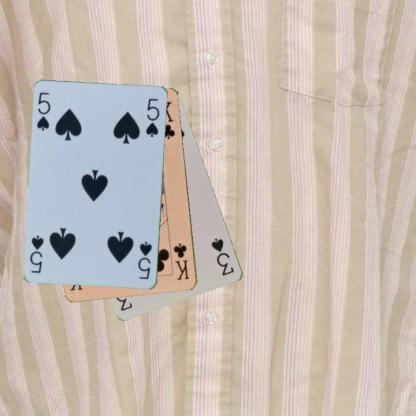3s: (208, 235, 236, 277)
5s: (136, 239, 154, 281), (34, 90, 52, 132)
Kc: (171, 240, 191, 282)
